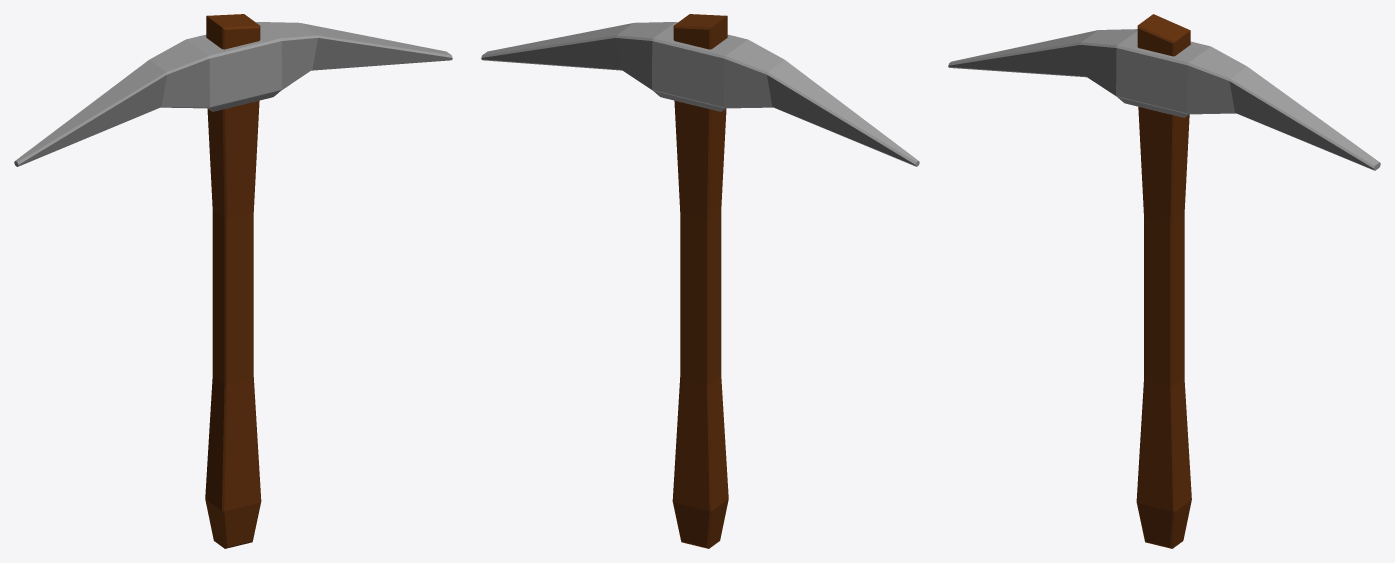
The model's file is low_poly_iron_pickaxe.glb.
3 views of the same model, side by side, from view 1: azimuth 30°, elevation 25°; view 2: azimuth 150°, elevation 25°; view 3: azimuth 330°, elevation 25° (orthographic).
Parts seen in each view (by area): view 1: iron Pickaxe; view 2: iron Pickaxe; view 3: iron Pickaxe.
Part boxes in pixels (x1,y1,x2,y2): iron Pickaxe: [14, 14, 452, 548]; iron Pickaxe: [481, 14, 919, 548]; iron Pickaxe: [948, 14, 1380, 548].
Bounding box in the file's own units: 21.94 × 25.4 × 2.25.
